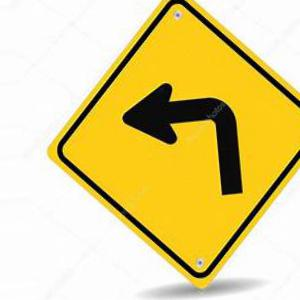left: (46, 1, 300, 288)
